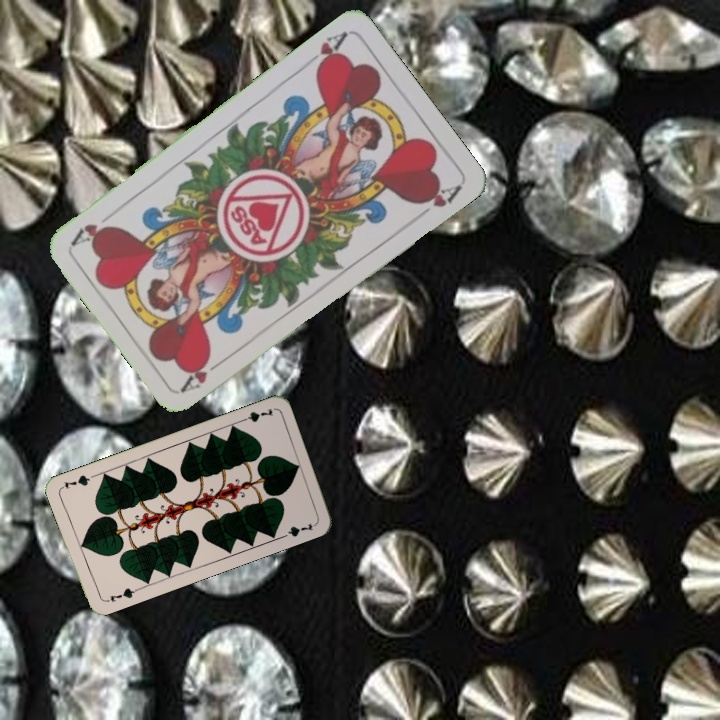G7: (236, 404, 276, 425), (101, 584, 140, 605)
HA: (299, 27, 350, 76), (177, 353, 230, 395)
